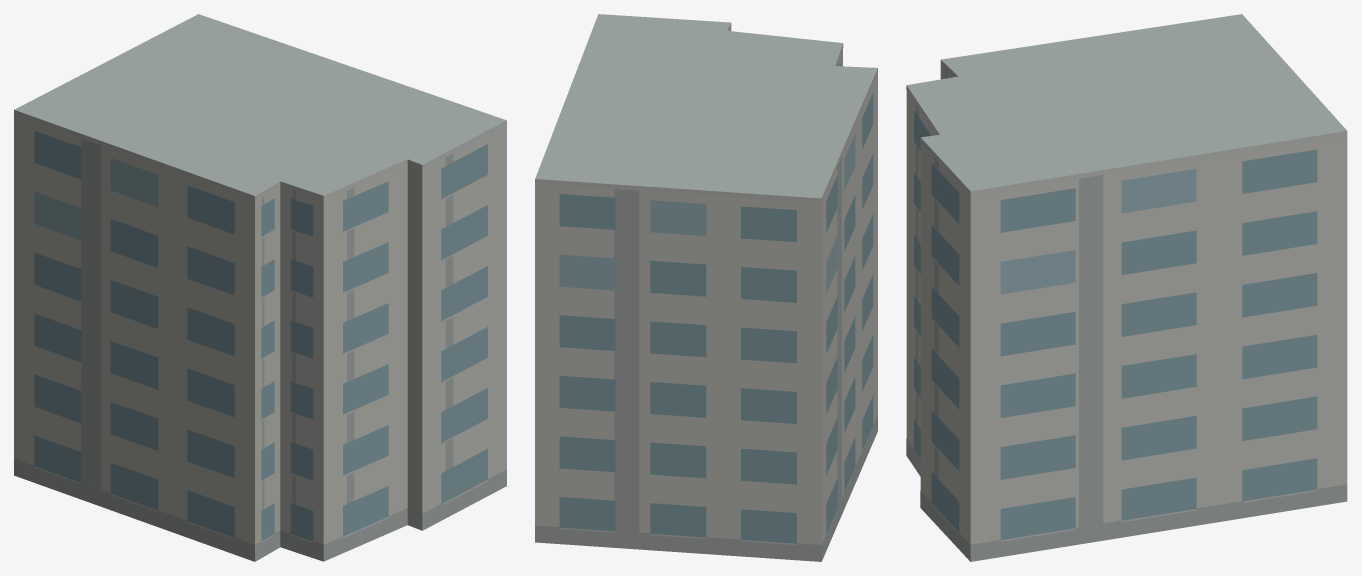
File: survey-upis-32866046.glb
3 renders of one model, left to right at view 1: azimuth 30°, elevation 25°; view 2: azimuth 150°, elevation 25°; view 3: azimuth 270°, elevation 25°, orthographic.
Parts seen in each view (by area): view 1: survey-upis-32866046.tmp; view 2: survey-upis-32866046.tmp; view 3: survey-upis-32866046.tmp.
Boxes of the visible parts, x1,y1,x2,y2 form: survey-upis-32866046.tmp: (14,14,506,561); survey-upis-32866046.tmp: (535,14,877,561); survey-upis-32866046.tmp: (906,14,1347,561).
Size of the model in its own units: 19.38 by 18.88 by 20.37.
